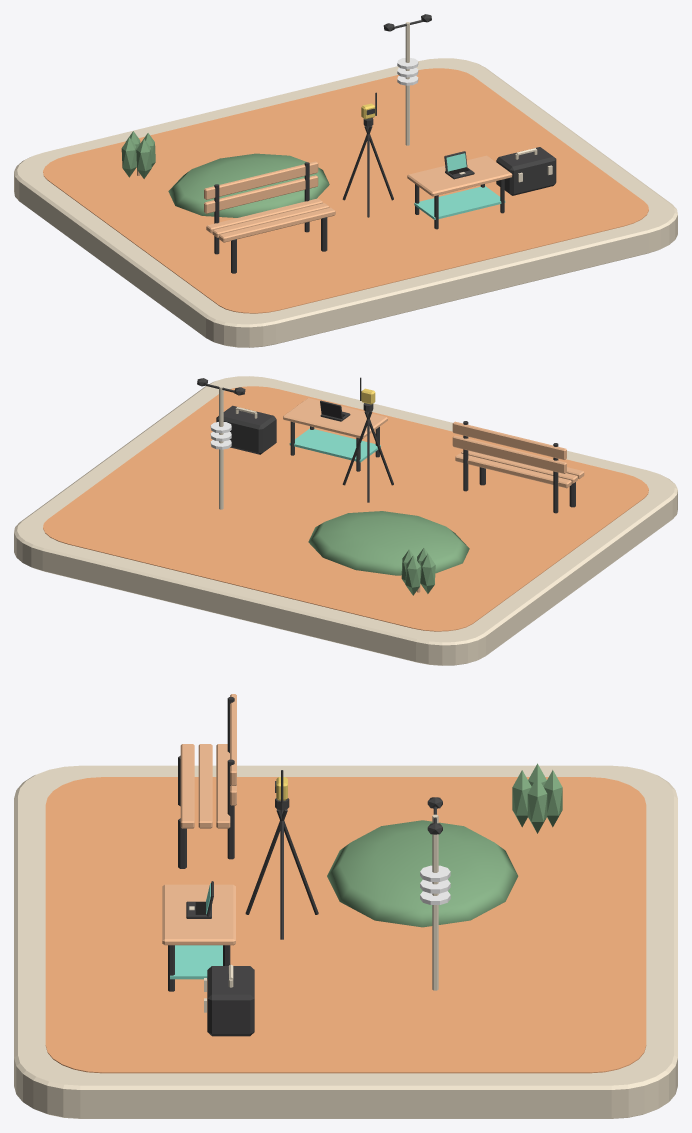
File: room.fbx
The picture shows the model from 3 angles, top to bottom: view 1: azimuth 30°, elevation 25°; view 2: azimuth 150°, elevation 25°; view 3: azimuth 270°, elevation 25°; orthographic projection. The views are drawn at different scales.
Parts seen in each view (by area): view 1: COM-02 Floor Surface, COM-01 Rounded Base Direct, Low terrain, Worktop, Case, Lower shelf, Back slat, Back slat.001, Seat slat, Seat slat.001, Seat slat.002, Mast; view 2: COM-02 Floor Surface, COM-01 Rounded Base Direct, Low terrain, Worktop, Case, Lower shelf, Back slat, Back slat.001, Seat slat.002, Seat slat.001, Mast, Leaf.001 (+1 smaller); view 3: COM-02 Floor Surface, COM-01 Rounded Base Direct, Low terrain, Worktop, Case, Lower shelf, Seat slat, Seat slat.001, Seat slat.002, Mast, Leaf, Leaf.003 (+1 smaller).
Boxes of the visible parts, box(x1,y1,x2,y2) form: COM-02 Floor Surface: box(43, 68, 648, 313); COM-01 Rounded Base Direct: box(14, 58, 677, 347); Low terrain: box(168, 153, 329, 217); Worktop: box(407, 155, 512, 196); Case: box(496, 147, 556, 195); Lower shelf: box(414, 186, 505, 219); Back slat: box(204, 175, 318, 213); Back slat.001: box(204, 161, 318, 199); Seat slat: box(219, 207, 335, 242); Seat slat.001: box(212, 203, 329, 237); Seat slat.002: box(206, 198, 322, 233); Mast: box(405, 22, 409, 145); COM-02 Floor Surface: box(43, 386, 648, 631); COM-01 Rounded Base Direct: box(14, 376, 677, 665); Low terrain: box(308, 511, 469, 575); Worktop: box(283, 398, 387, 438); Case: box(216, 405, 276, 454); Lower shelf: box(289, 428, 380, 462); Back slat: box(452, 435, 566, 473); Back slat.001: box(452, 421, 566, 459); Seat slat.002: box(455, 453, 571, 488); Seat slat.001: box(461, 450, 577, 483); Mast: box(219, 386, 223, 509); Leaf.001: box(405, 555, 420, 595); COM-02 Floor Surface: box(45, 777, 646, 1073); COM-01 Rounded Base Direct: box(14, 765, 677, 1118); Low terrain: box(327, 820, 518, 927); Worktop: box(162, 884, 235, 945); Case: box(207, 966, 254, 1036); Lower shelf: box(170, 945, 222, 979); Seat slat: box(180, 744, 194, 828); Seat slat.001: box(198, 744, 212, 828); Seat slat.002: box(216, 744, 230, 828); Mast: box(432, 814, 438, 990); Leaf: box(527, 776, 547, 833); Leaf.003: box(512, 770, 531, 827).
Bounding box in the file's own units: 600 × 185 × 520.
